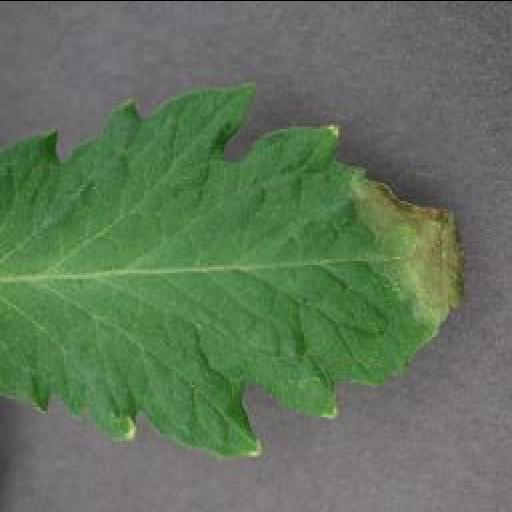disease_tomato: (0, 76, 468, 460)
